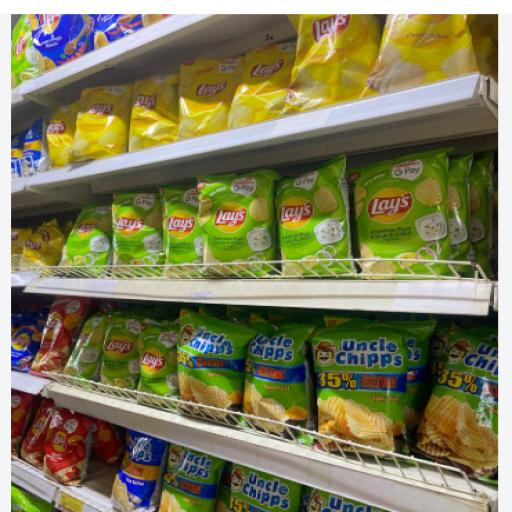green_chips: (352, 150, 451, 260), (276, 156, 351, 275), (198, 170, 279, 263), (113, 192, 164, 264), (161, 186, 202, 263), (63, 205, 112, 266), (470, 152, 494, 275), (447, 154, 473, 261), (471, 185, 481, 213)
